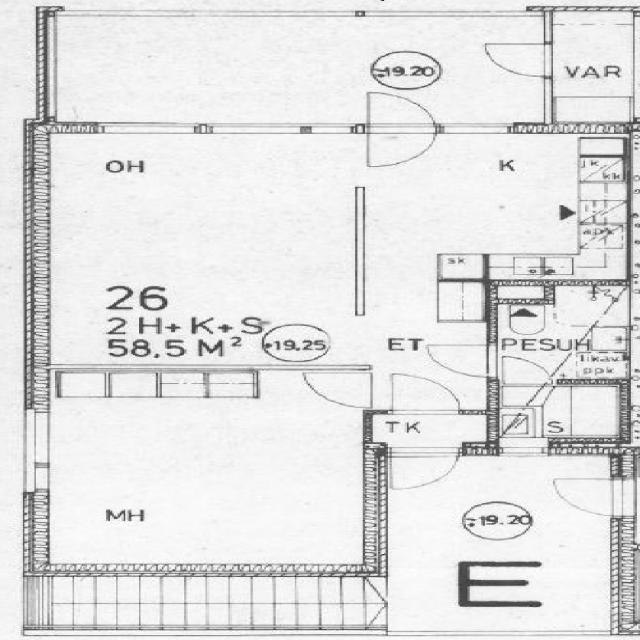door: (368, 123, 436, 170), (368, 86, 436, 133), (390, 448, 460, 493), (393, 373, 459, 415), (300, 373, 371, 407), (428, 345, 497, 377), (484, 44, 552, 76), (503, 352, 552, 386)
